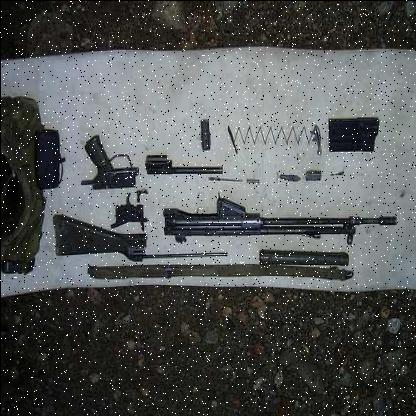rifle: (41, 193, 406, 281)
